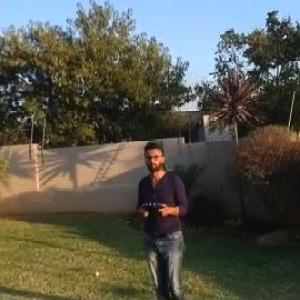follow: (135, 135, 191, 299)
